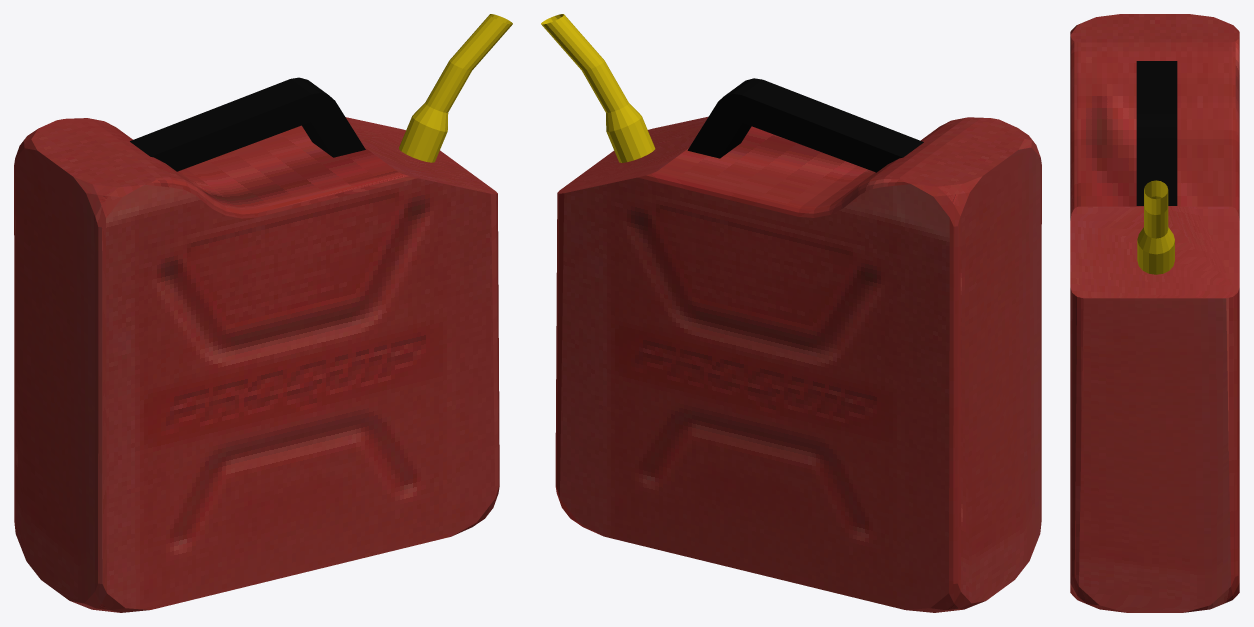
The model's file is gascan.glb.
The picture shows the model from 3 angles, left to right: view 1: azimuth 30°, elevation 25°; view 2: azimuth 150°, elevation 25°; view 3: azimuth 270°, elevation 25°; orthographic projection. The views are drawn at different scales.
Visible parts, largest first — view 1: Can, Handle, Nozzle; view 2: Can, Handle, Nozzle; view 3: Can, Handle, Nozzle.
Boxes of the visible parts, x1,y1,x2,y2 form: Can: (14, 117, 499, 612); Handle: (130, 77, 365, 171); Nozzle: (399, 14, 512, 162); Can: (555, 116, 1041, 612); Handle: (687, 78, 923, 172); Nozzle: (541, 14, 655, 162); Can: (1070, 14, 1239, 612); Handle: (1136, 61, 1177, 205); Nozzle: (1137, 180, 1174, 274).
Bounding box in the file's own units: 0.6895 × 0.6734 × 0.2303.
Materials: 3 (1 with a texture image).
